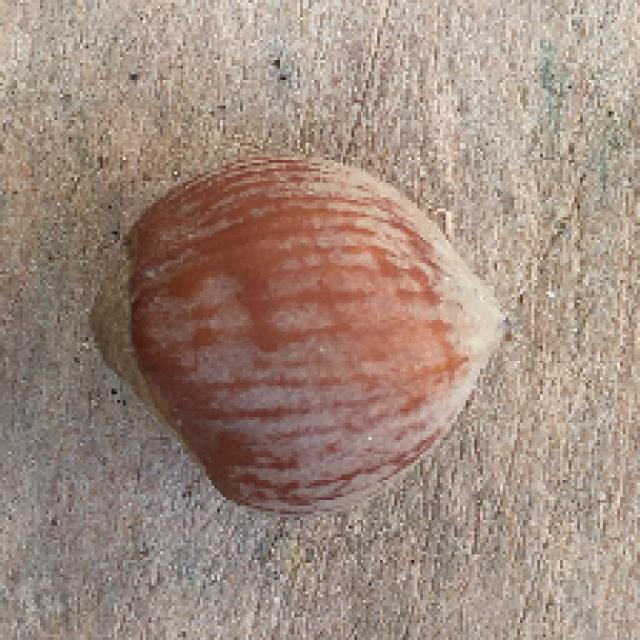qualityHazelnut: (79, 158, 505, 518)
